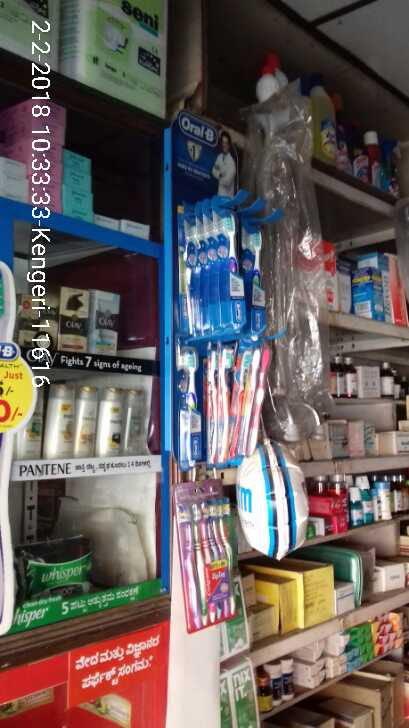beauty: (44, 383, 73, 459), (89, 288, 118, 358), (98, 386, 125, 458), (60, 286, 89, 352), (125, 387, 147, 457), (75, 383, 95, 457)
pharmacy: (19, 530, 93, 595), (211, 197, 242, 333)
